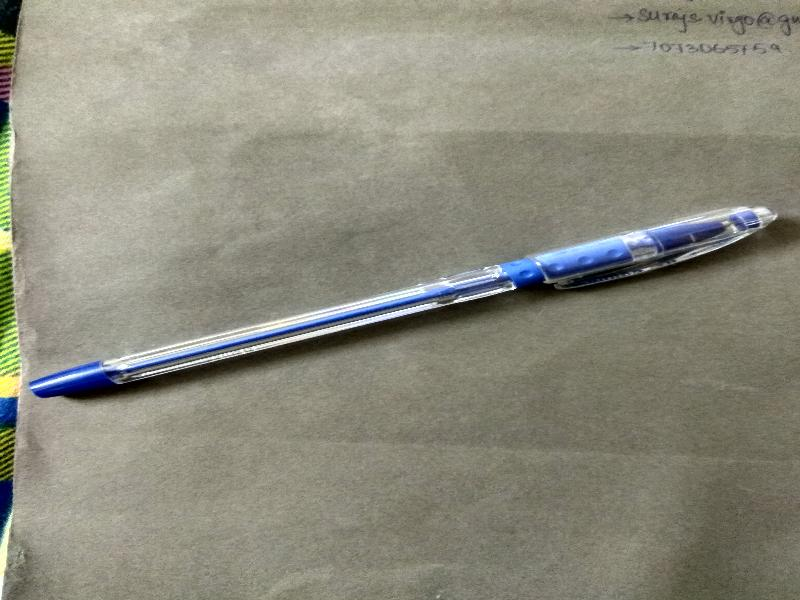pen: (22, 201, 790, 408)
